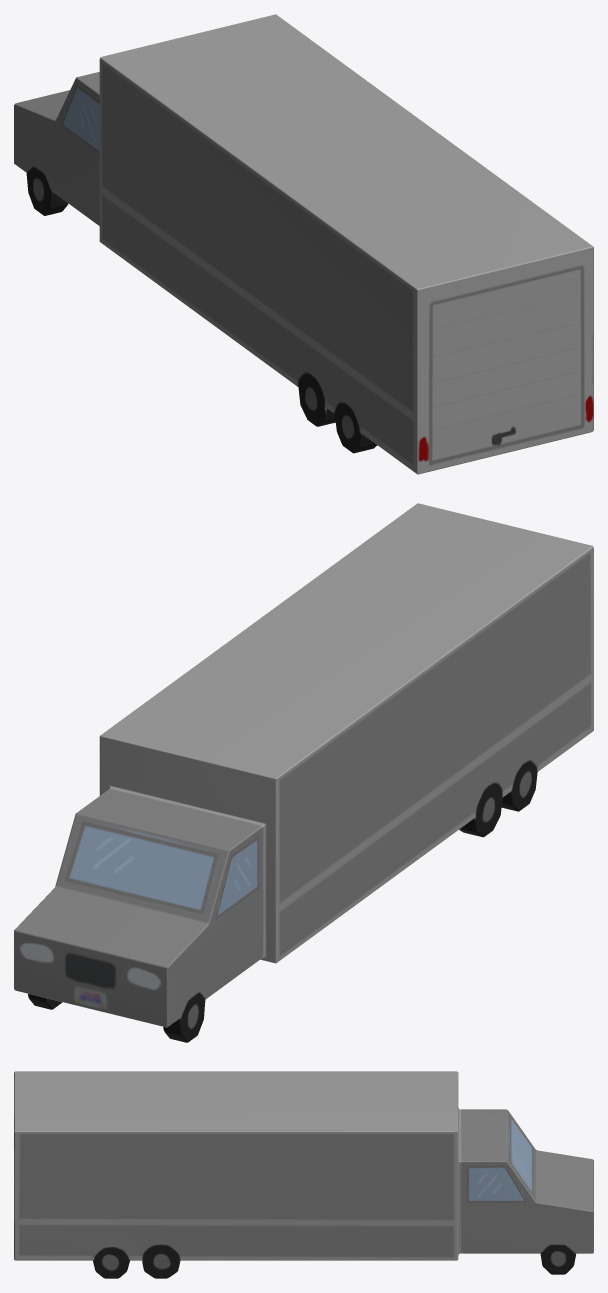
Rendered from truck.fbx.
The picture shows the model from 3 angles, top to bottom: view 1: azimuth 30°, elevation 25°; view 2: azimuth 150°, elevation 25°; view 3: azimuth 270°, elevation 25°; orthographic projection. The views are drawn at different scales.
Parts seen in each view (by area): view 1: Truck; view 2: Truck; view 3: Truck.
Part boxes in pixels (left/top/right/bottom): Truck: left=14, top=14, right=593, bottom=474; Truck: left=14, top=503, right=593, bottom=1042; Truck: left=14, top=1071, right=593, bottom=1278.
Bounding box in the file's own units: 3.61 × 14.62 × 4.12.
